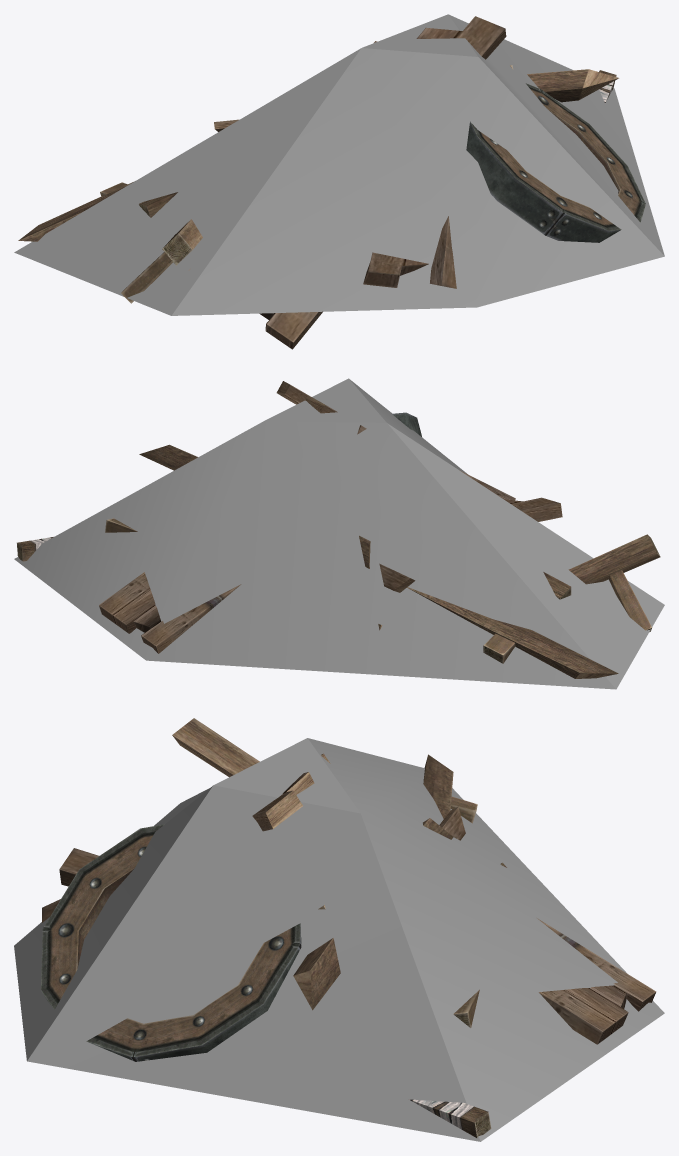
Rendered from Scene_Build_XuanWuShan_TuiChe_2.FBX.
3 views of the same model, one above another, from view 1: azimuth 30°, elevation 25°; view 2: azimuth 150°, elevation 25°; view 3: azimuth 270°, elevation 25° (orthographic). The views are drawn at different scales.
Visible parts, largest first — view 1: Scene_Build_XuanWuShan_TuiChe_2_Xzm, Scene_Build_XuanWuShan_TuiChe_2; view 2: Scene_Build_XuanWuShan_TuiChe_2_Xzm, Scene_Build_XuanWuShan_TuiChe_2; view 3: Scene_Build_XuanWuShan_TuiChe_2_Xzm, Scene_Build_XuanWuShan_TuiChe_2.
Boxes of the visible parts, x1,y1,x2,y2 form: Scene_Build_XuanWuShan_TuiChe_2_Xzm: (14, 14, 664, 315); Scene_Build_XuanWuShan_TuiChe_2: (18, 16, 645, 349); Scene_Build_XuanWuShan_TuiChe_2_Xzm: (14, 378, 664, 689); Scene_Build_XuanWuShan_TuiChe_2: (17, 381, 660, 678); Scene_Build_XuanWuShan_TuiChe_2_Xzm: (14, 738, 664, 1141); Scene_Build_XuanWuShan_TuiChe_2: (40, 718, 656, 1137).
Bounding box in the file's own units: 338 × 112 × 251.
